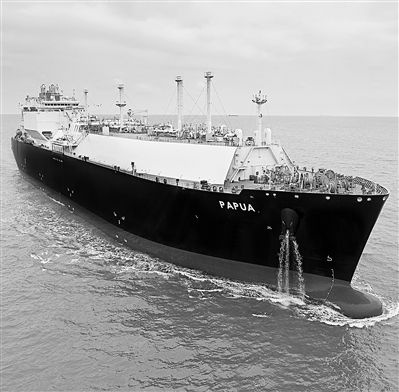Cargoship: (13, 79, 391, 297)
